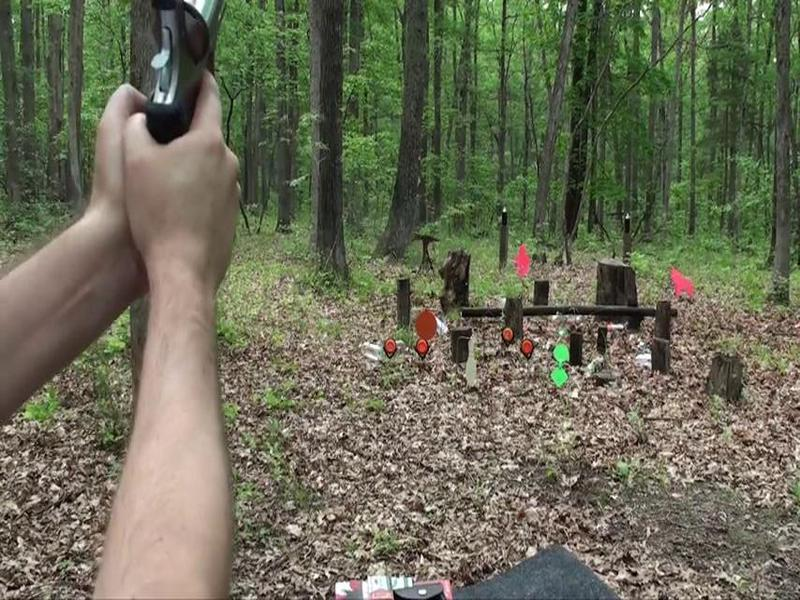Revolver: (129, 1, 269, 180)
